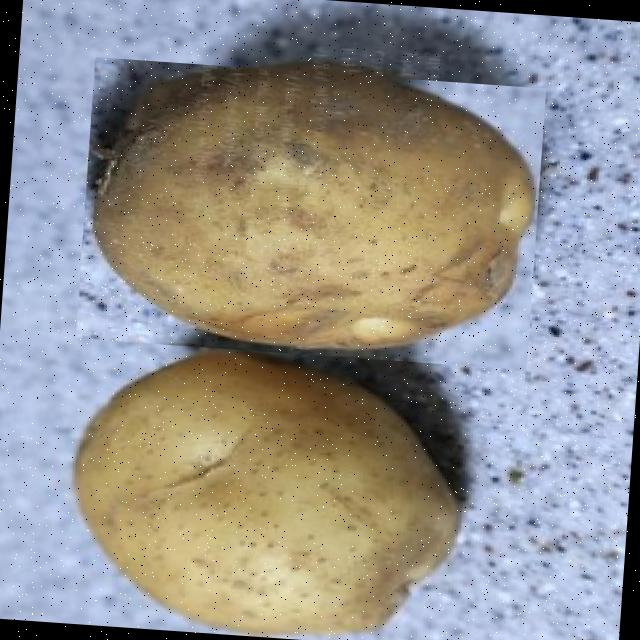Potato: (74, 56, 545, 370), (54, 337, 471, 640)
